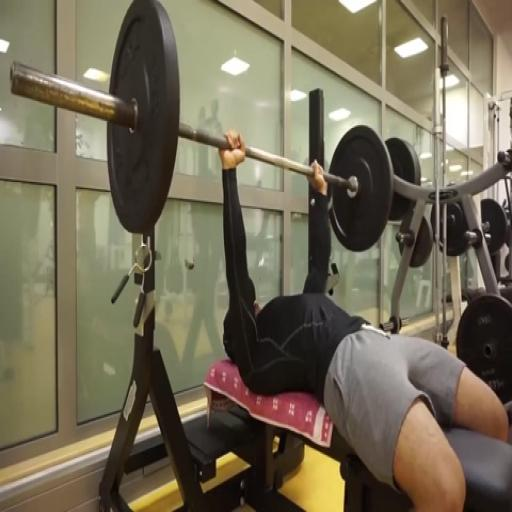exercise: (214, 126, 511, 510)
